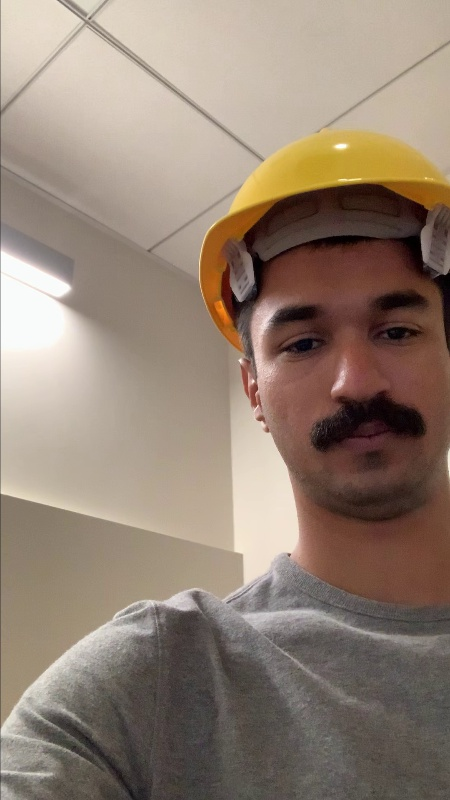helmet: (211, 124, 450, 204)
